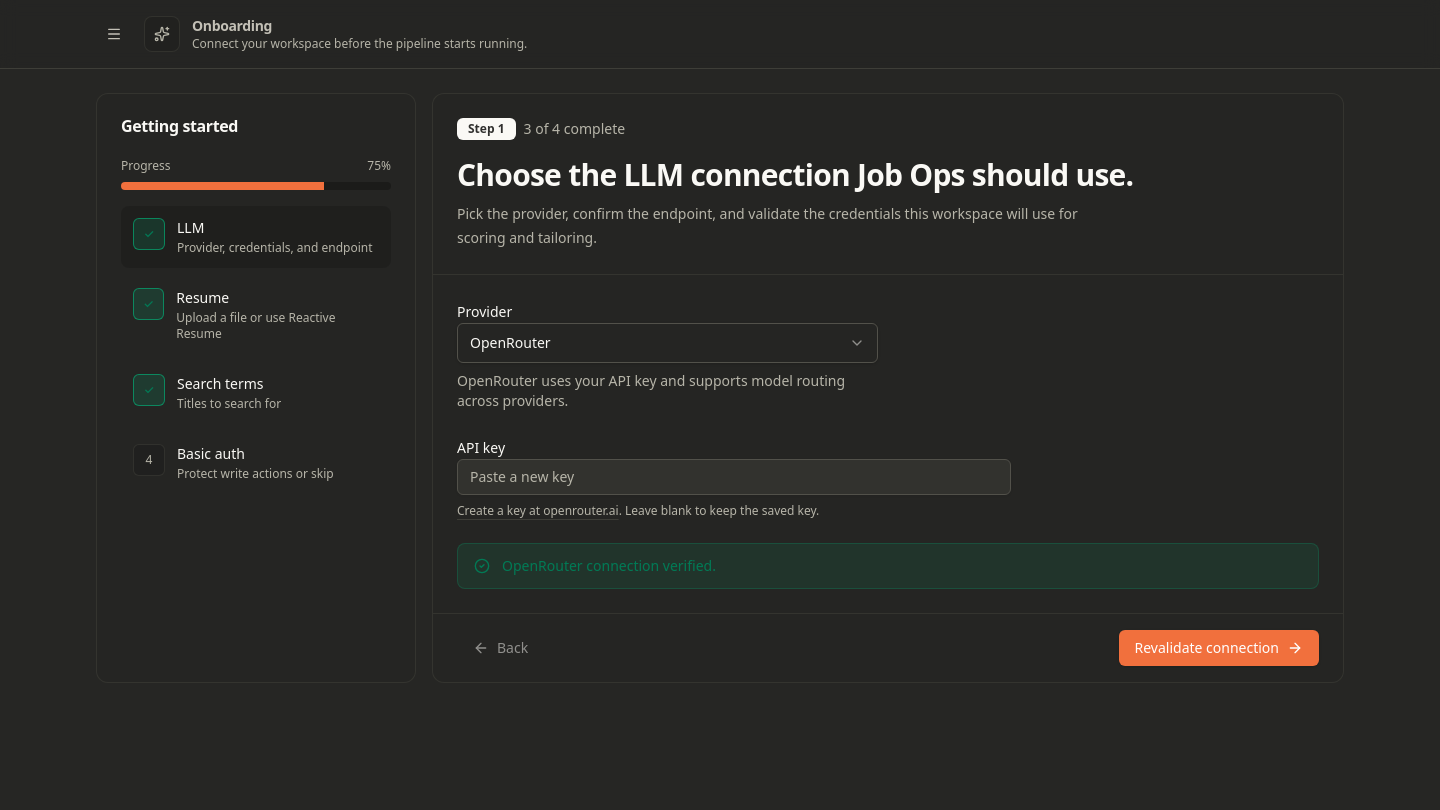
OnboardingPage › defaults the authentication step to lock it down
This screenshot has width=1440, height=810.
Expected: the text "Choose the LLM connection Job Ops should use." is shown, x1=457 y1=154 x2=1133 y2=195
Click the button "4 Basic auth Protect write actions or skip" at [256, 463], box x1=121 y1=432 x2=391 y2=494
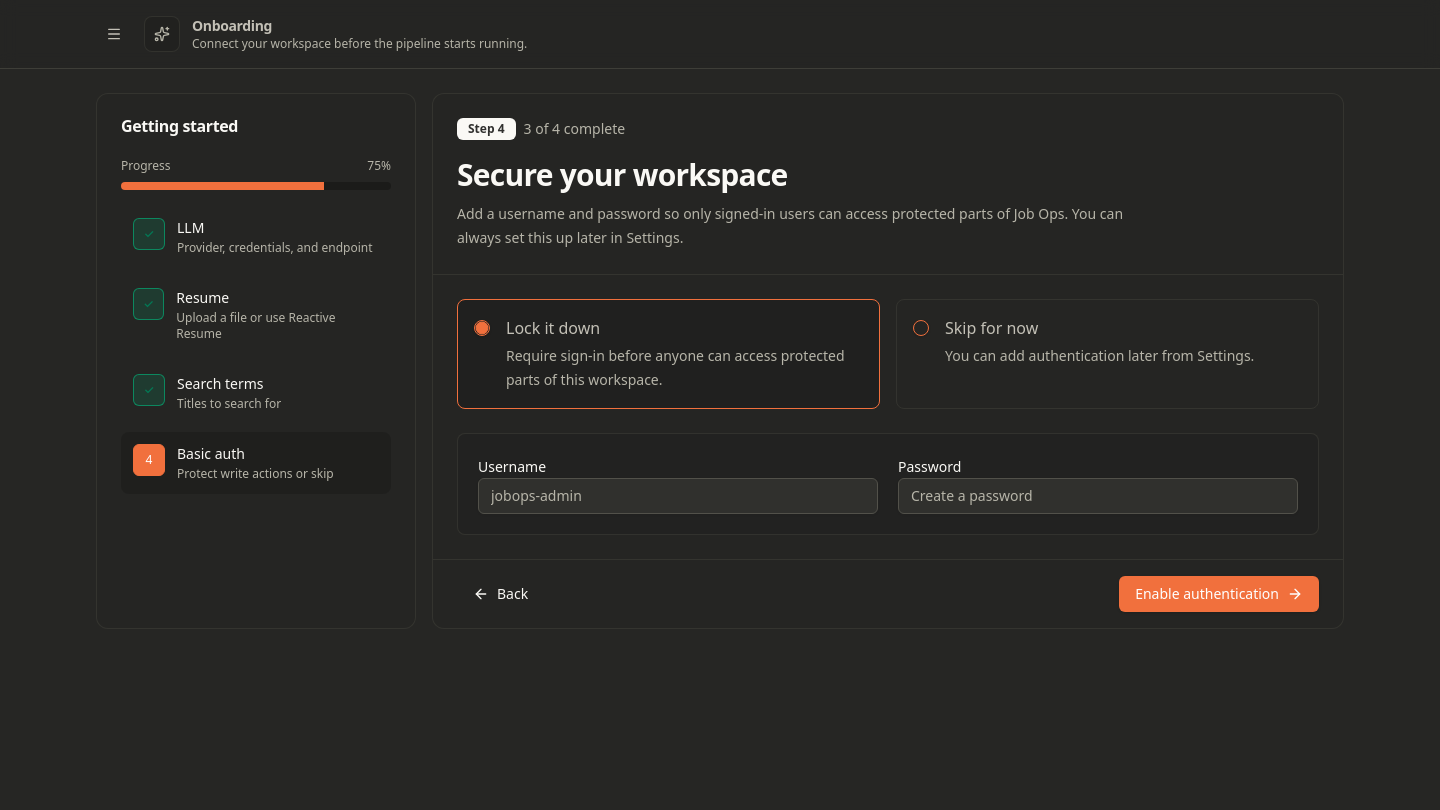
Expected: the text "Secure your workspace" is shown, x1=457 y1=154 x2=788 y2=195
Expected: the radio button named "lock it down" next to "Lock it down" is checked, x1=474 y1=320 x2=490 y2=336
Expected: the button "Enable authentication" is shown, x1=1119 y1=576 x2=1319 y2=612
